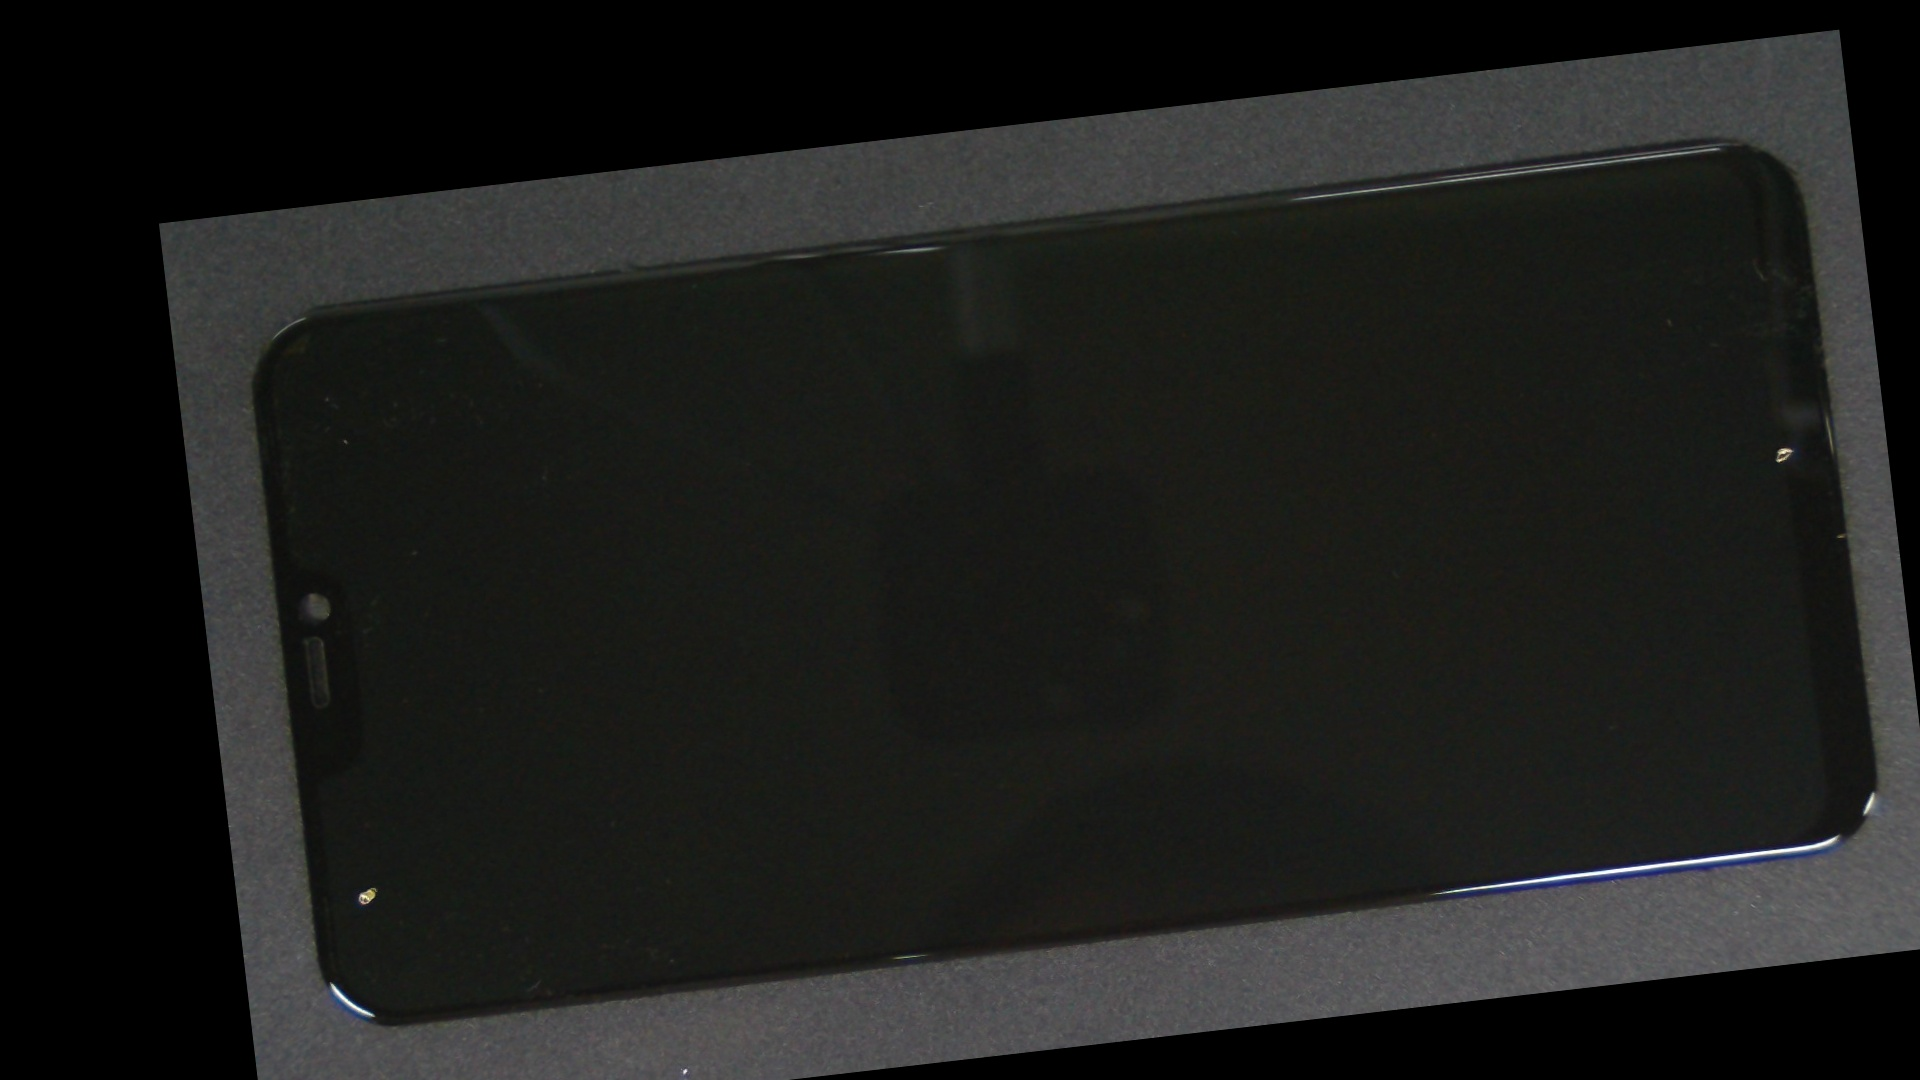oil: (973, 232, 1909, 740), (262, 539, 459, 1080)
